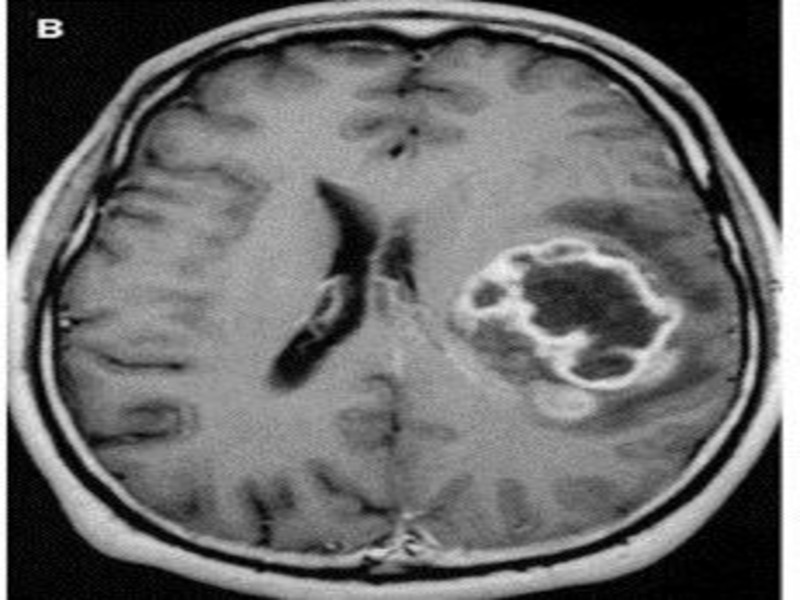tumor: (449, 232, 690, 420)
